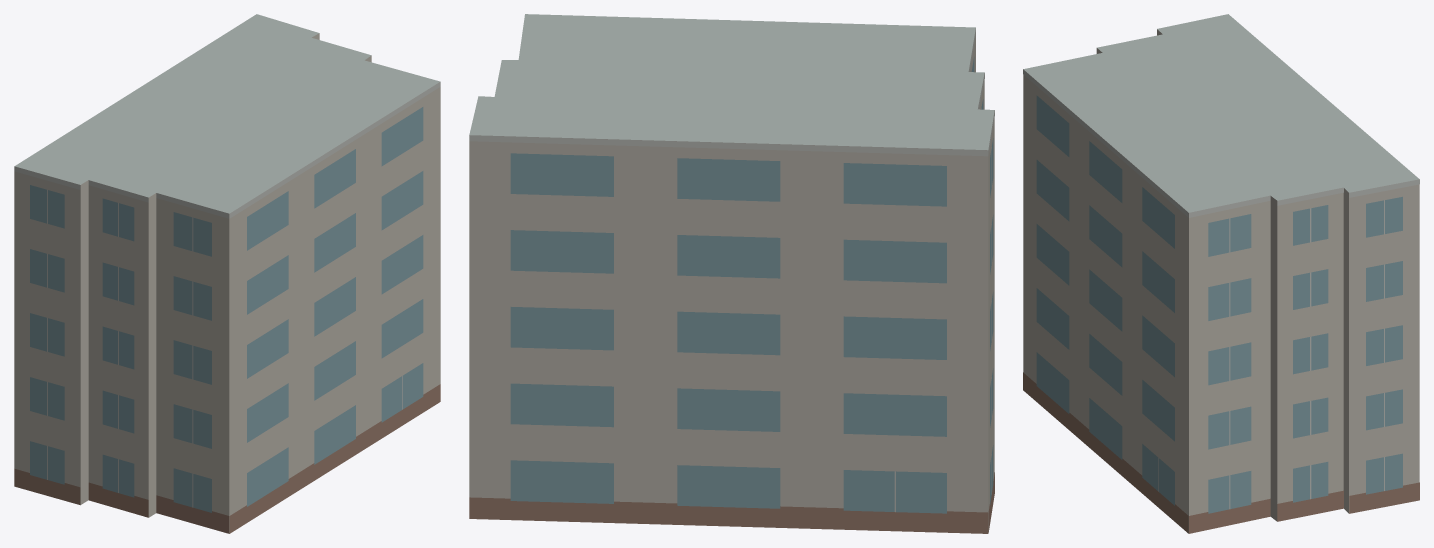
Rendered from survey-upis-32669873.glb.
3 renders of one model, left to right at view 1: azimuth 30°, elevation 25°; view 2: azimuth 150°, elevation 25°; view 3: azimuth 270°, elevation 25°, orthographic. The views are drawn at different scales.
Parts seen in each view (by area): view 1: survey-upis-32669873.tmp; view 2: survey-upis-32669873.tmp; view 3: survey-upis-32669873.tmp.
Part boxes in pixels (left/top/right/bottom): survey-upis-32669873.tmp: left=14, top=14, right=440, bottom=533; survey-upis-32669873.tmp: left=469, top=14, right=994, bottom=533; survey-upis-32669873.tmp: left=1023, top=14, right=1419, bottom=533.
Size of the model in its own units: 20.26 by 15.25 by 17.08.
